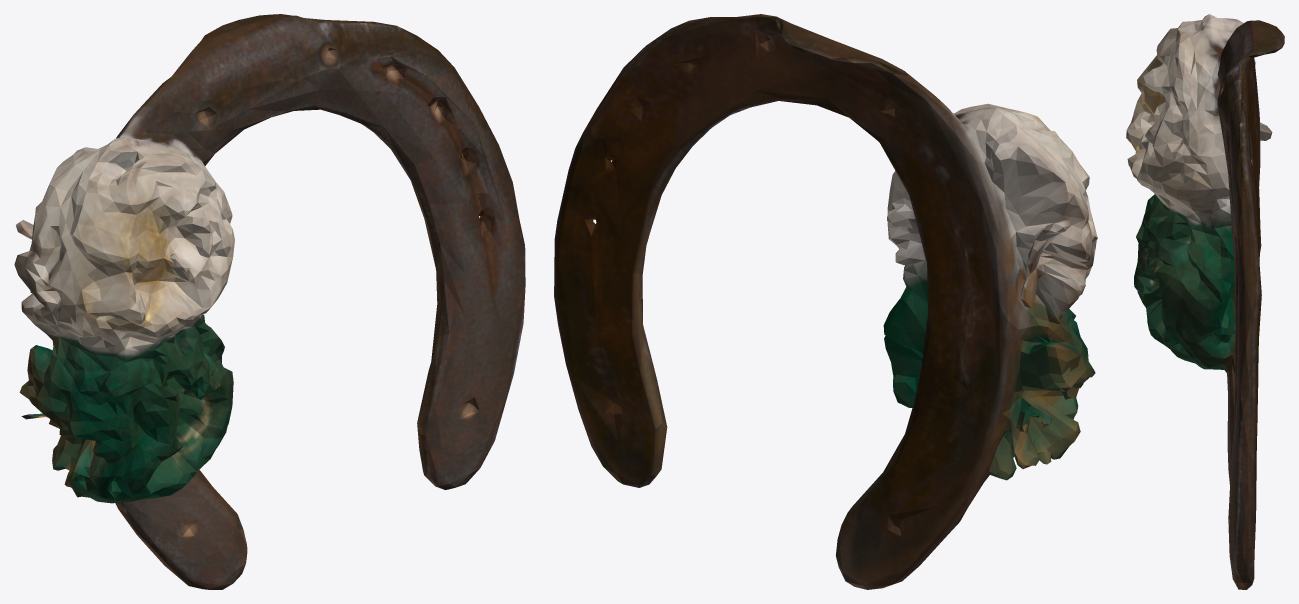
The model's file is 20062C22-7EDC-9C42-A1A4-EF6EAA1AD291_2k.glb.
The picture shows the model from 3 angles, left to right: view 1: azimuth 30°, elevation 25°; view 2: azimuth 150°, elevation 25°; view 3: azimuth 270°, elevation 25°; orthographic projection. The views are drawn at different scales.
Parts seen in each view (by area): view 1: Pfingstrosenhufeisen_4k_2k; view 2: Pfingstrosenhufeisen_4k_2k; view 3: Pfingstrosenhufeisen_4k_2k.
Part boxes in pixels (box(x1,y1,x2,y2)): Pfingstrosenhufeisen_4k_2k: box(14, 14, 525, 589); Pfingstrosenhufeisen_4k_2k: box(554, 14, 1097, 589); Pfingstrosenhufeisen_4k_2k: box(1126, 14, 1284, 589).
Size of the model in its own units: 0.1432 by 0.1451 by 0.041.
1 material, 1 textured.
